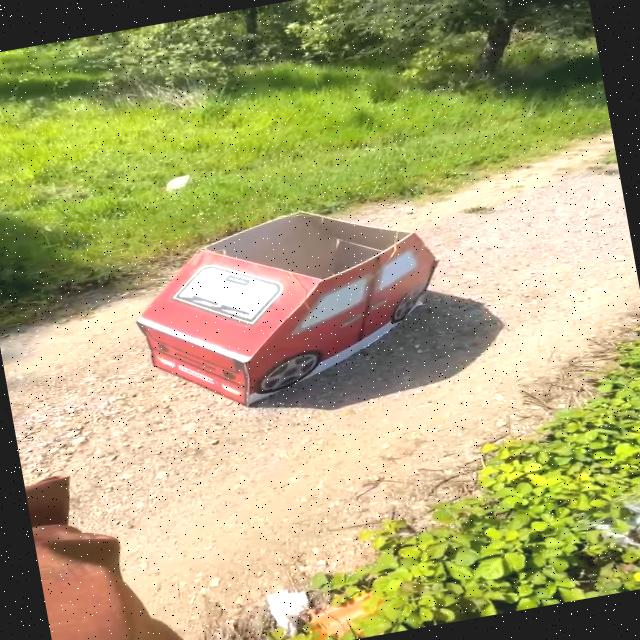red_car: (104, 173, 497, 440)
